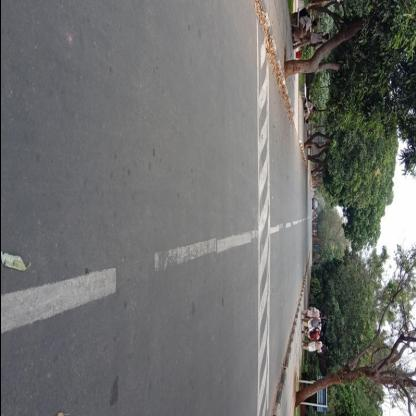speed-bumps: (248, 31, 274, 415)
